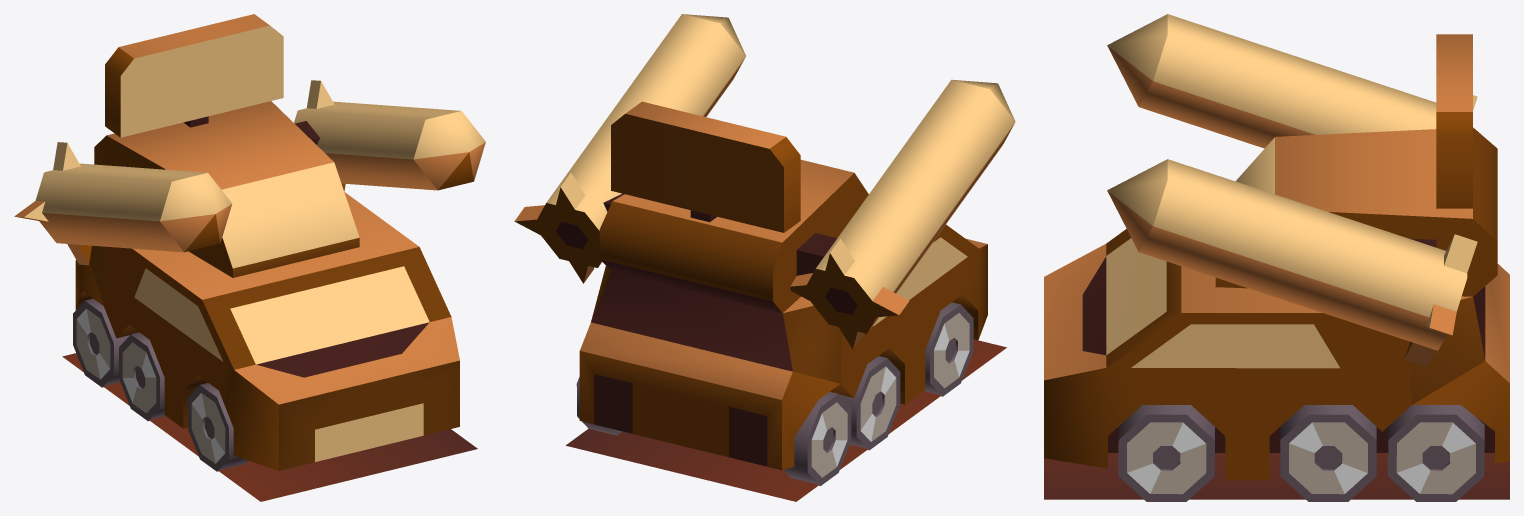
File: MissileMesh.UmberWilds.glb
3 renders of one model, left to right at view 1: azimuth 30°, elevation 25°; view 2: azimuth 150°, elevation 25°; view 3: azimuth 270°, elevation 25°, orthographic. The views are drawn at different scales.
Parts seen in each view (by area): view 1: MissileMesh.UmberWilds; view 2: MissileMesh.UmberWilds; view 3: MissileMesh.UmberWilds.
Boxes of the visible parts, left/top/right/bottom form: MissileMesh.UmberWilds: left=14, top=14, right=485, bottom=501; MissileMesh.UmberWilds: left=514, top=14, right=1015, bottom=501; MissileMesh.UmberWilds: left=1044, top=14, right=1509, bottom=501.
Bounding box in the file's own units: 2 × 1.65 × 1.9.
Materials: 1 (1 with a texture image).
